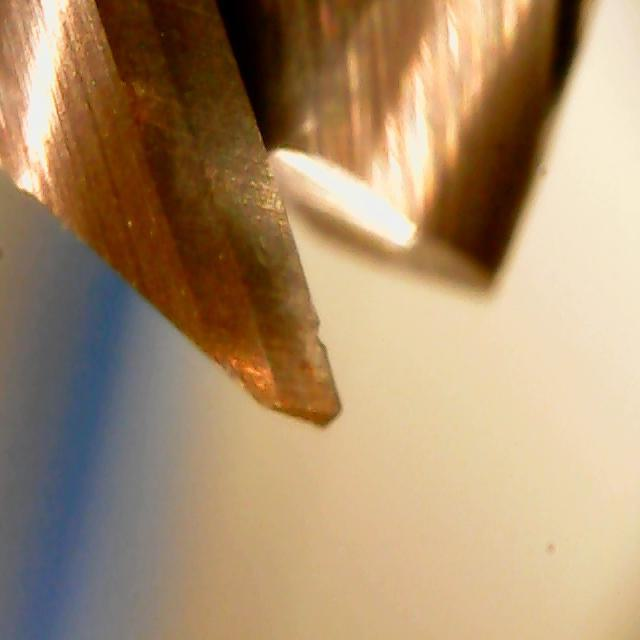Tool-wear-class-1: (230, 236, 351, 434)
